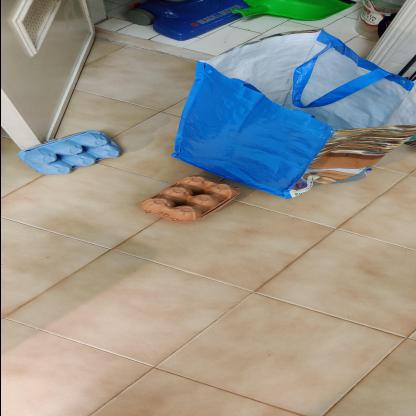karton: (140, 176, 240, 224), (18, 131, 122, 176)
